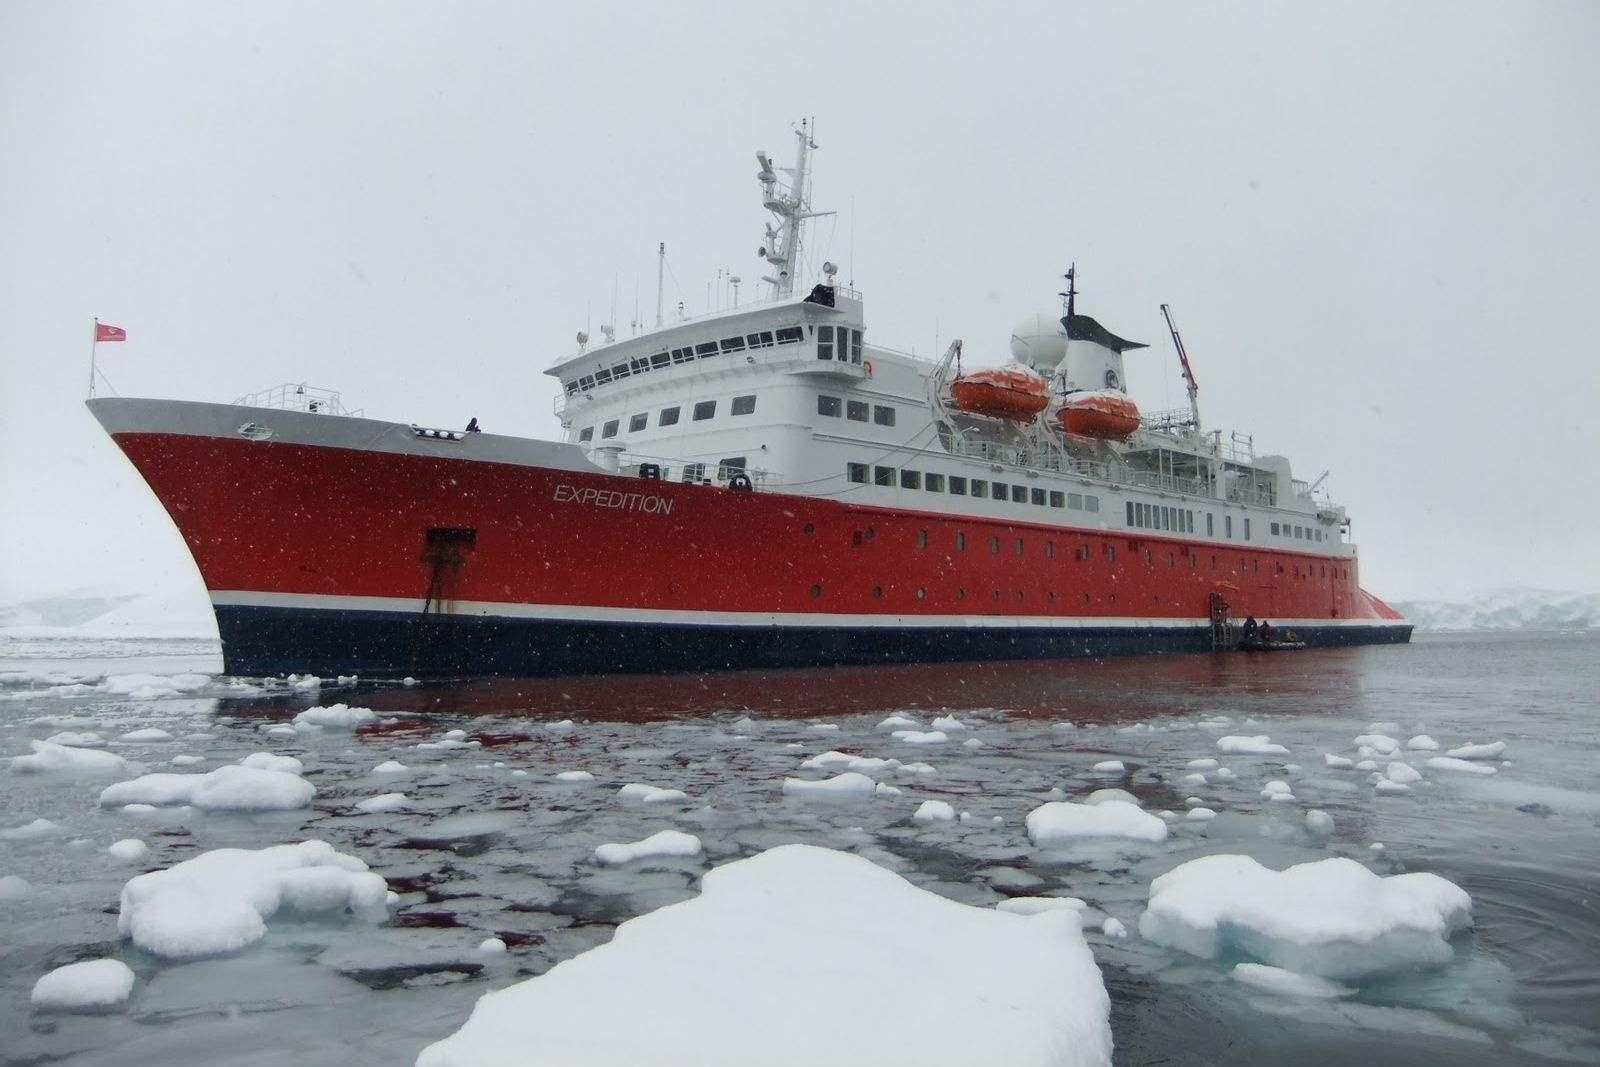youlun: (58, 96, 1433, 663)
